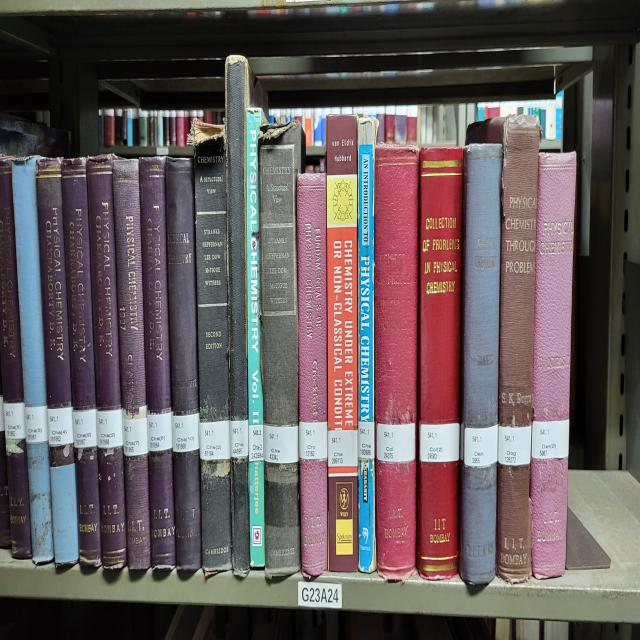Book: (466, 116, 541, 582), (225, 54, 268, 576), (259, 124, 305, 579), (459, 143, 504, 584), (530, 152, 576, 579), (375, 143, 419, 582), (418, 146, 462, 579), (35, 160, 79, 565), (11, 157, 54, 563), (86, 154, 126, 568), (61, 157, 101, 565), (195, 127, 231, 576), (112, 160, 150, 571), (139, 157, 176, 568), (326, 116, 359, 571), (296, 173, 328, 579), (0, 157, 31, 557), (246, 108, 265, 568), (166, 160, 199, 414), (358, 119, 376, 571)
Label: (420, 422, 460, 463), (376, 422, 415, 463), (531, 419, 569, 460), (464, 425, 498, 468), (264, 425, 299, 463), (498, 425, 531, 465), (328, 430, 358, 473), (199, 419, 230, 460), (122, 411, 148, 457), (299, 422, 328, 460), (48, 406, 74, 446), (72, 409, 98, 449), (96, 409, 122, 449), (172, 414, 199, 452), (148, 411, 172, 452), (25, 406, 49, 444), (4, 403, 26, 438), (230, 419, 249, 457), (358, 422, 375, 460), (249, 425, 264, 460)
